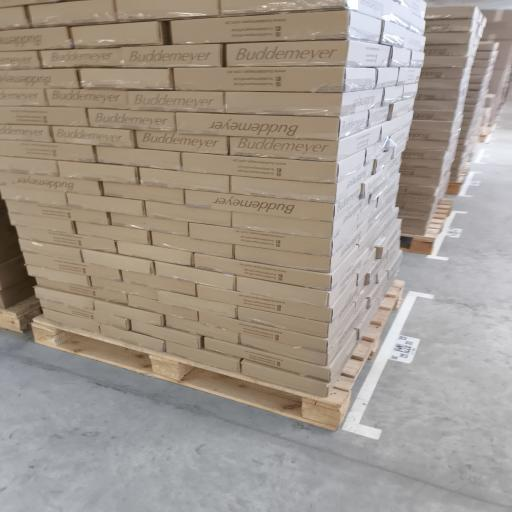pallet: (32, 281, 404, 430), (401, 199, 453, 254), (0, 296, 41, 332), (446, 164, 470, 195), (479, 124, 496, 143)
